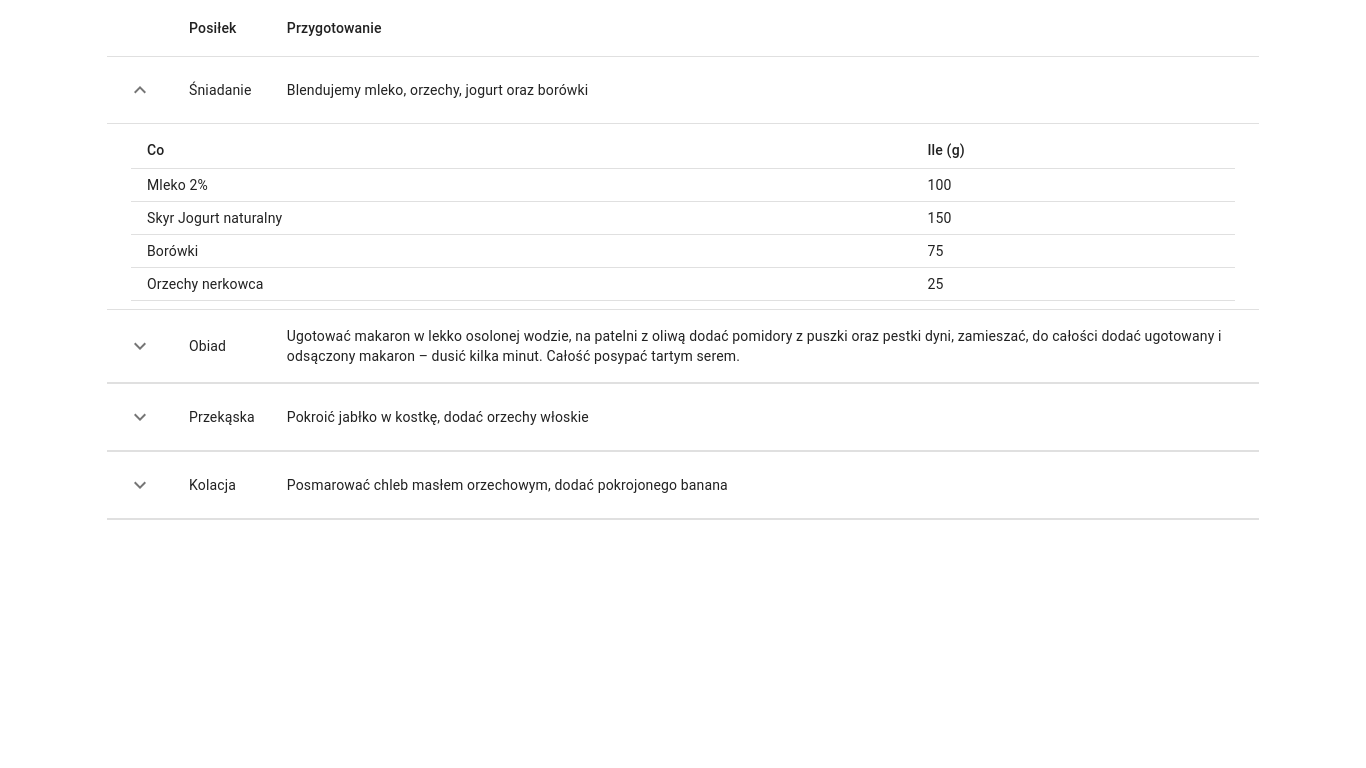
Meals › should show details about ingredients when meal is expanded
Expected: the column heading "Obiad" is shown, [173,310,271,383]
Expected: the text "Makaron pełnoziarnisty" is not shown
Step 1. Click the button named "expand row" next to "Obiad" → click(140, 346), box [123,329,157,363]
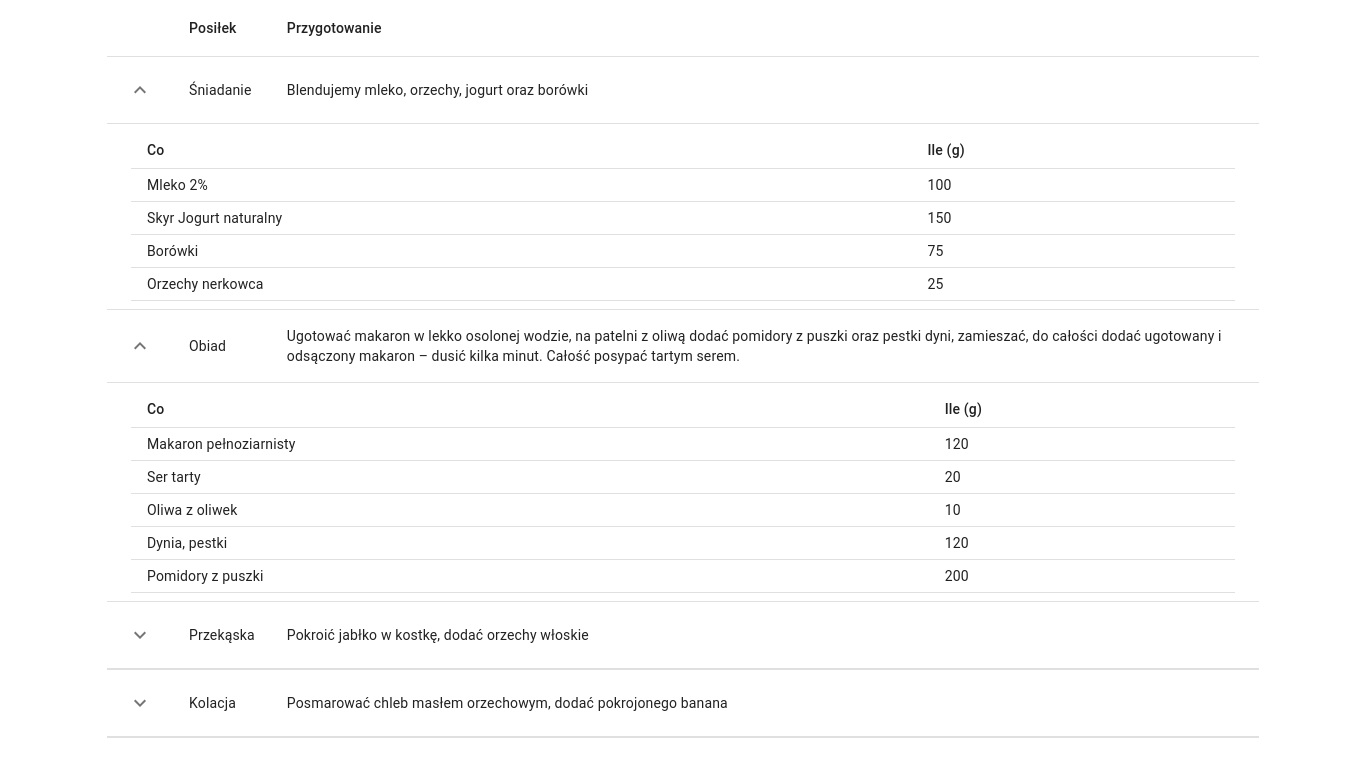
Expected: the column heading "Makaron pełnoziarnisty" is shown, [131,428,929,461]
Expected: the column heading "Ser tarty" is shown, [131,461,929,494]
Expected: the column heading "Oliwa z oliwek" is shown, [131,494,929,527]
